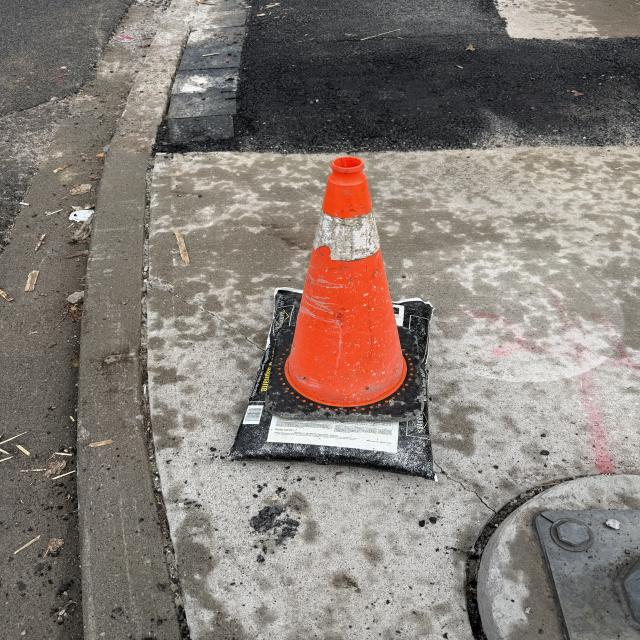Traffic Cone: (264, 156, 428, 416)
